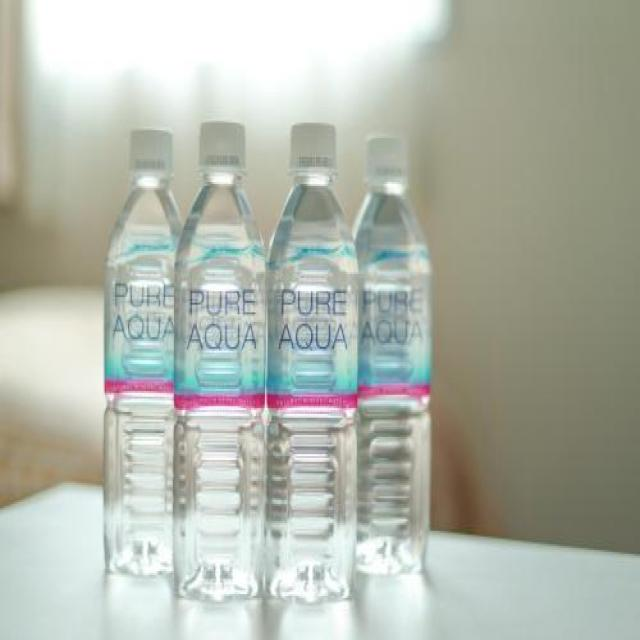bottle: (271, 122, 359, 615), (182, 122, 268, 611), (356, 122, 437, 615), (100, 122, 175, 611)
